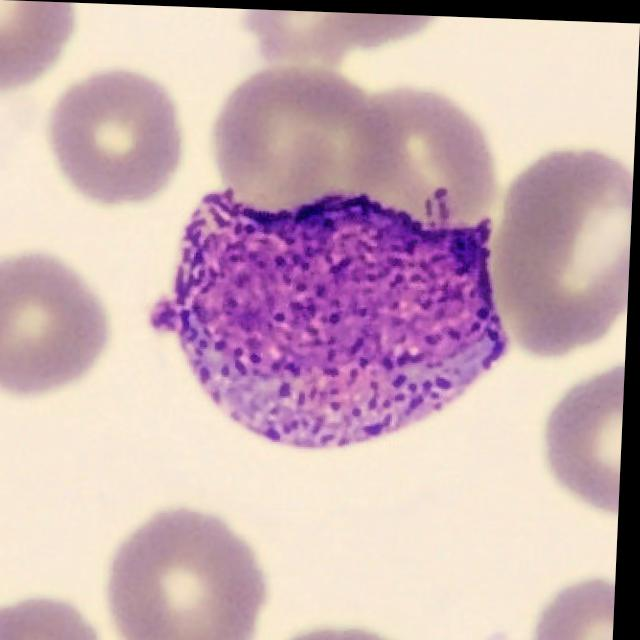Promielocito: (152, 183, 514, 446)
